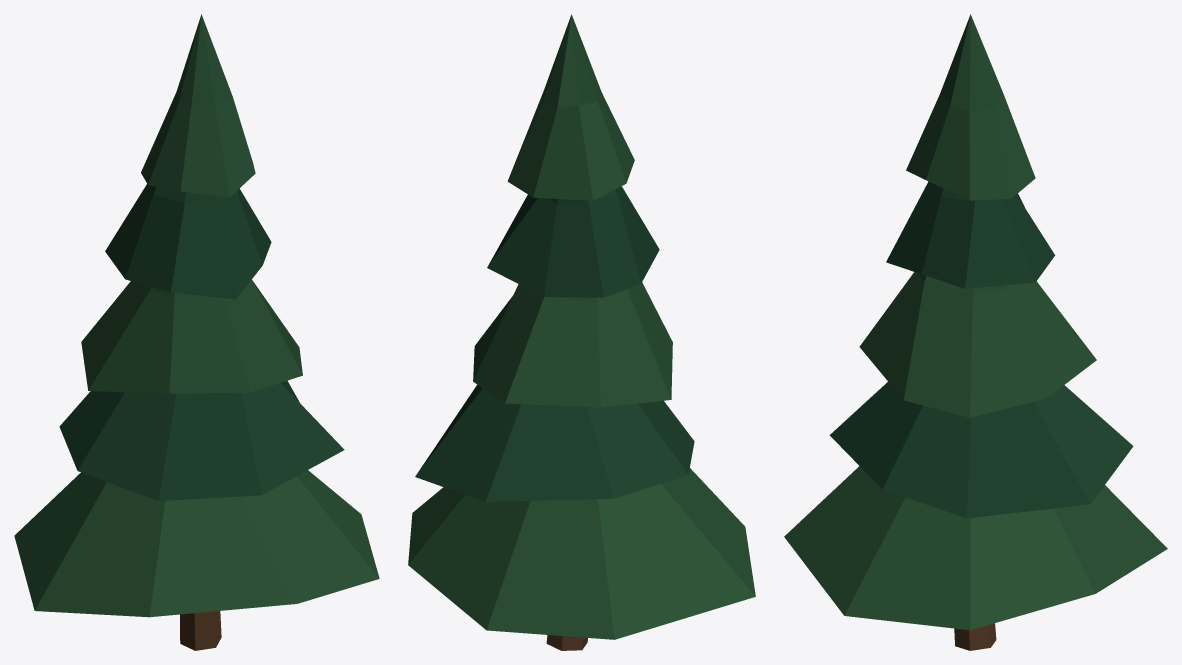
File: Tree_Pine_A.glb
3 renders of one model, left to right at view 1: azimuth 30°, elevation 25°; view 2: azimuth 150°, elevation 25°; view 3: azimuth 270°, elevation 25°, orthographic.
Parts seen in each view (by area): view 1: Tree_Pine_A; view 2: Tree_Pine_A; view 3: Tree_Pine_A.
Part boxes in pixels (left/top/right/bottom): Tree_Pine_A: left=14, top=14, right=379, bottom=650; Tree_Pine_A: left=408, top=14, right=755, bottom=650; Tree_Pine_A: left=784, top=14, right=1167, bottom=650.
Size of the model in its own units: 3.07 by 5.51 by 3.05.
